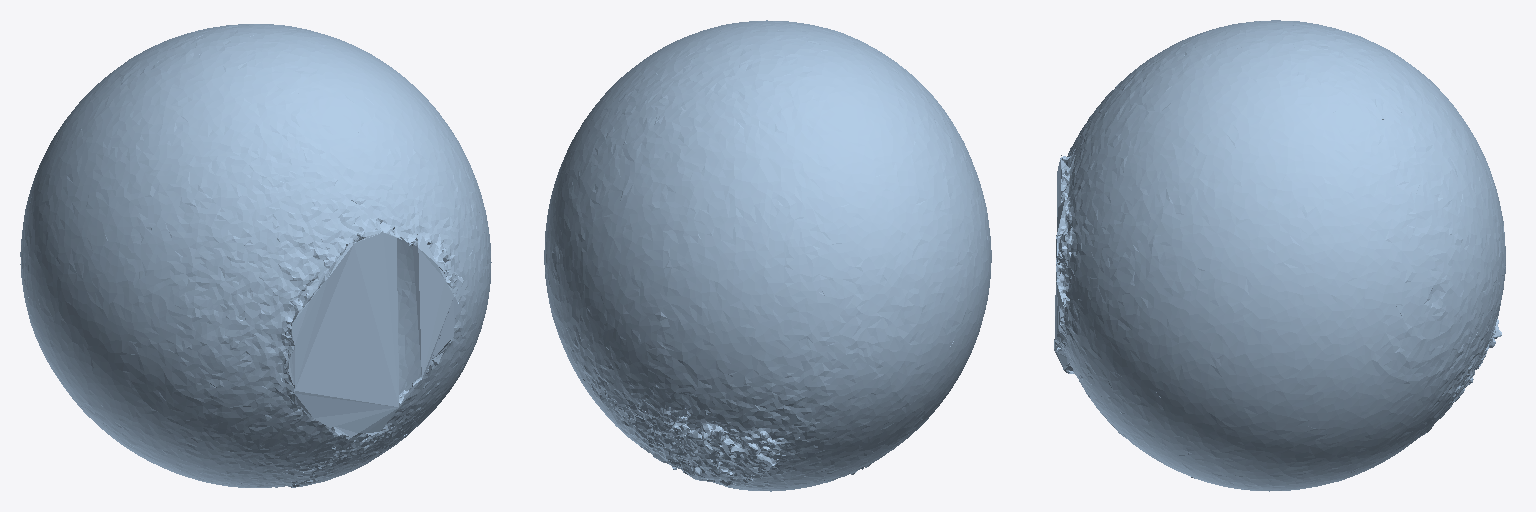
The robot description file, URDF, robot "yogaball.urdf":
<?xml version="1.0" ?>
<robot name="yogaball.urdf">
  <dynamics damping="0.5" friction="0.9"/>
  <link name="baseLink">
    <contact>
      <lateral_friction value="0.9"/>
      <rolling_friction value="0.5"/>
      <stiffness value="30000"/>
      <damping value="1000"/>
    </contact>
    <visual>
      <origin rpy="0 0 0" xyz="0 0 0"/>
      <geometry>
        <mesh filename="objects/yogaball/yogaball.obj" scale="1.0 1.0 1.0"/>
      </geometry>
       <material name="mat">
        <color rgba="0.7 0.8 0.9 1"/>
      </material>
    </visual>
    <collision>
      <origin rpy="0 0 0" xyz="0 0 0"/>
      <geometry>
         <mesh filename="objects/yogaball/yogaball.obj" scale="1.0 1.0 1.0"/>
      </geometry>
    </collision>
  </link>
</robot>

--- What the picture shows (computed from the rendered views, not written in the file) ---
The picture shows the robot from 3 angles, left to right: view 1: azimuth 30°, elevation 25°; view 2: azimuth 150°, elevation 25°; view 3: azimuth 270°, elevation 25°; orthographic projection.
Model yogaball.urdf with 1 links and 0 joints (none), rooted at baseLink, posed every joint at zero.
Links seen in each view (by area): view 1: baseLink; view 2: baseLink; view 3: baseLink.
Link boxes in pixels (x1,y1,x2,y2): baseLink: (20, 24, 491, 487); baseLink: (544, 20, 991, 491); baseLink: (1054, 20, 1505, 491).
Size in the robot's own frame: 0.5408 by 0.5296 by 0.5539 metres.
Meshes: 1 distinct files referenced, 1 mesh visuals loaded (1 OBJ).
